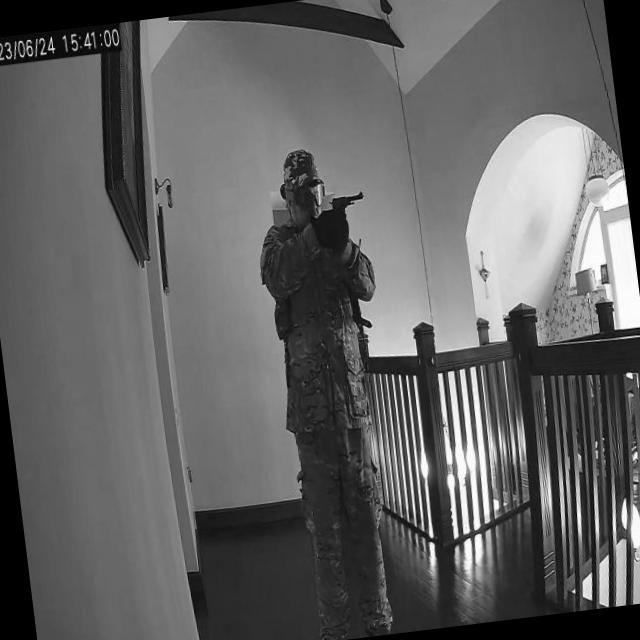gun: (326, 188, 367, 229)
person with a gun: (243, 139, 420, 640)
